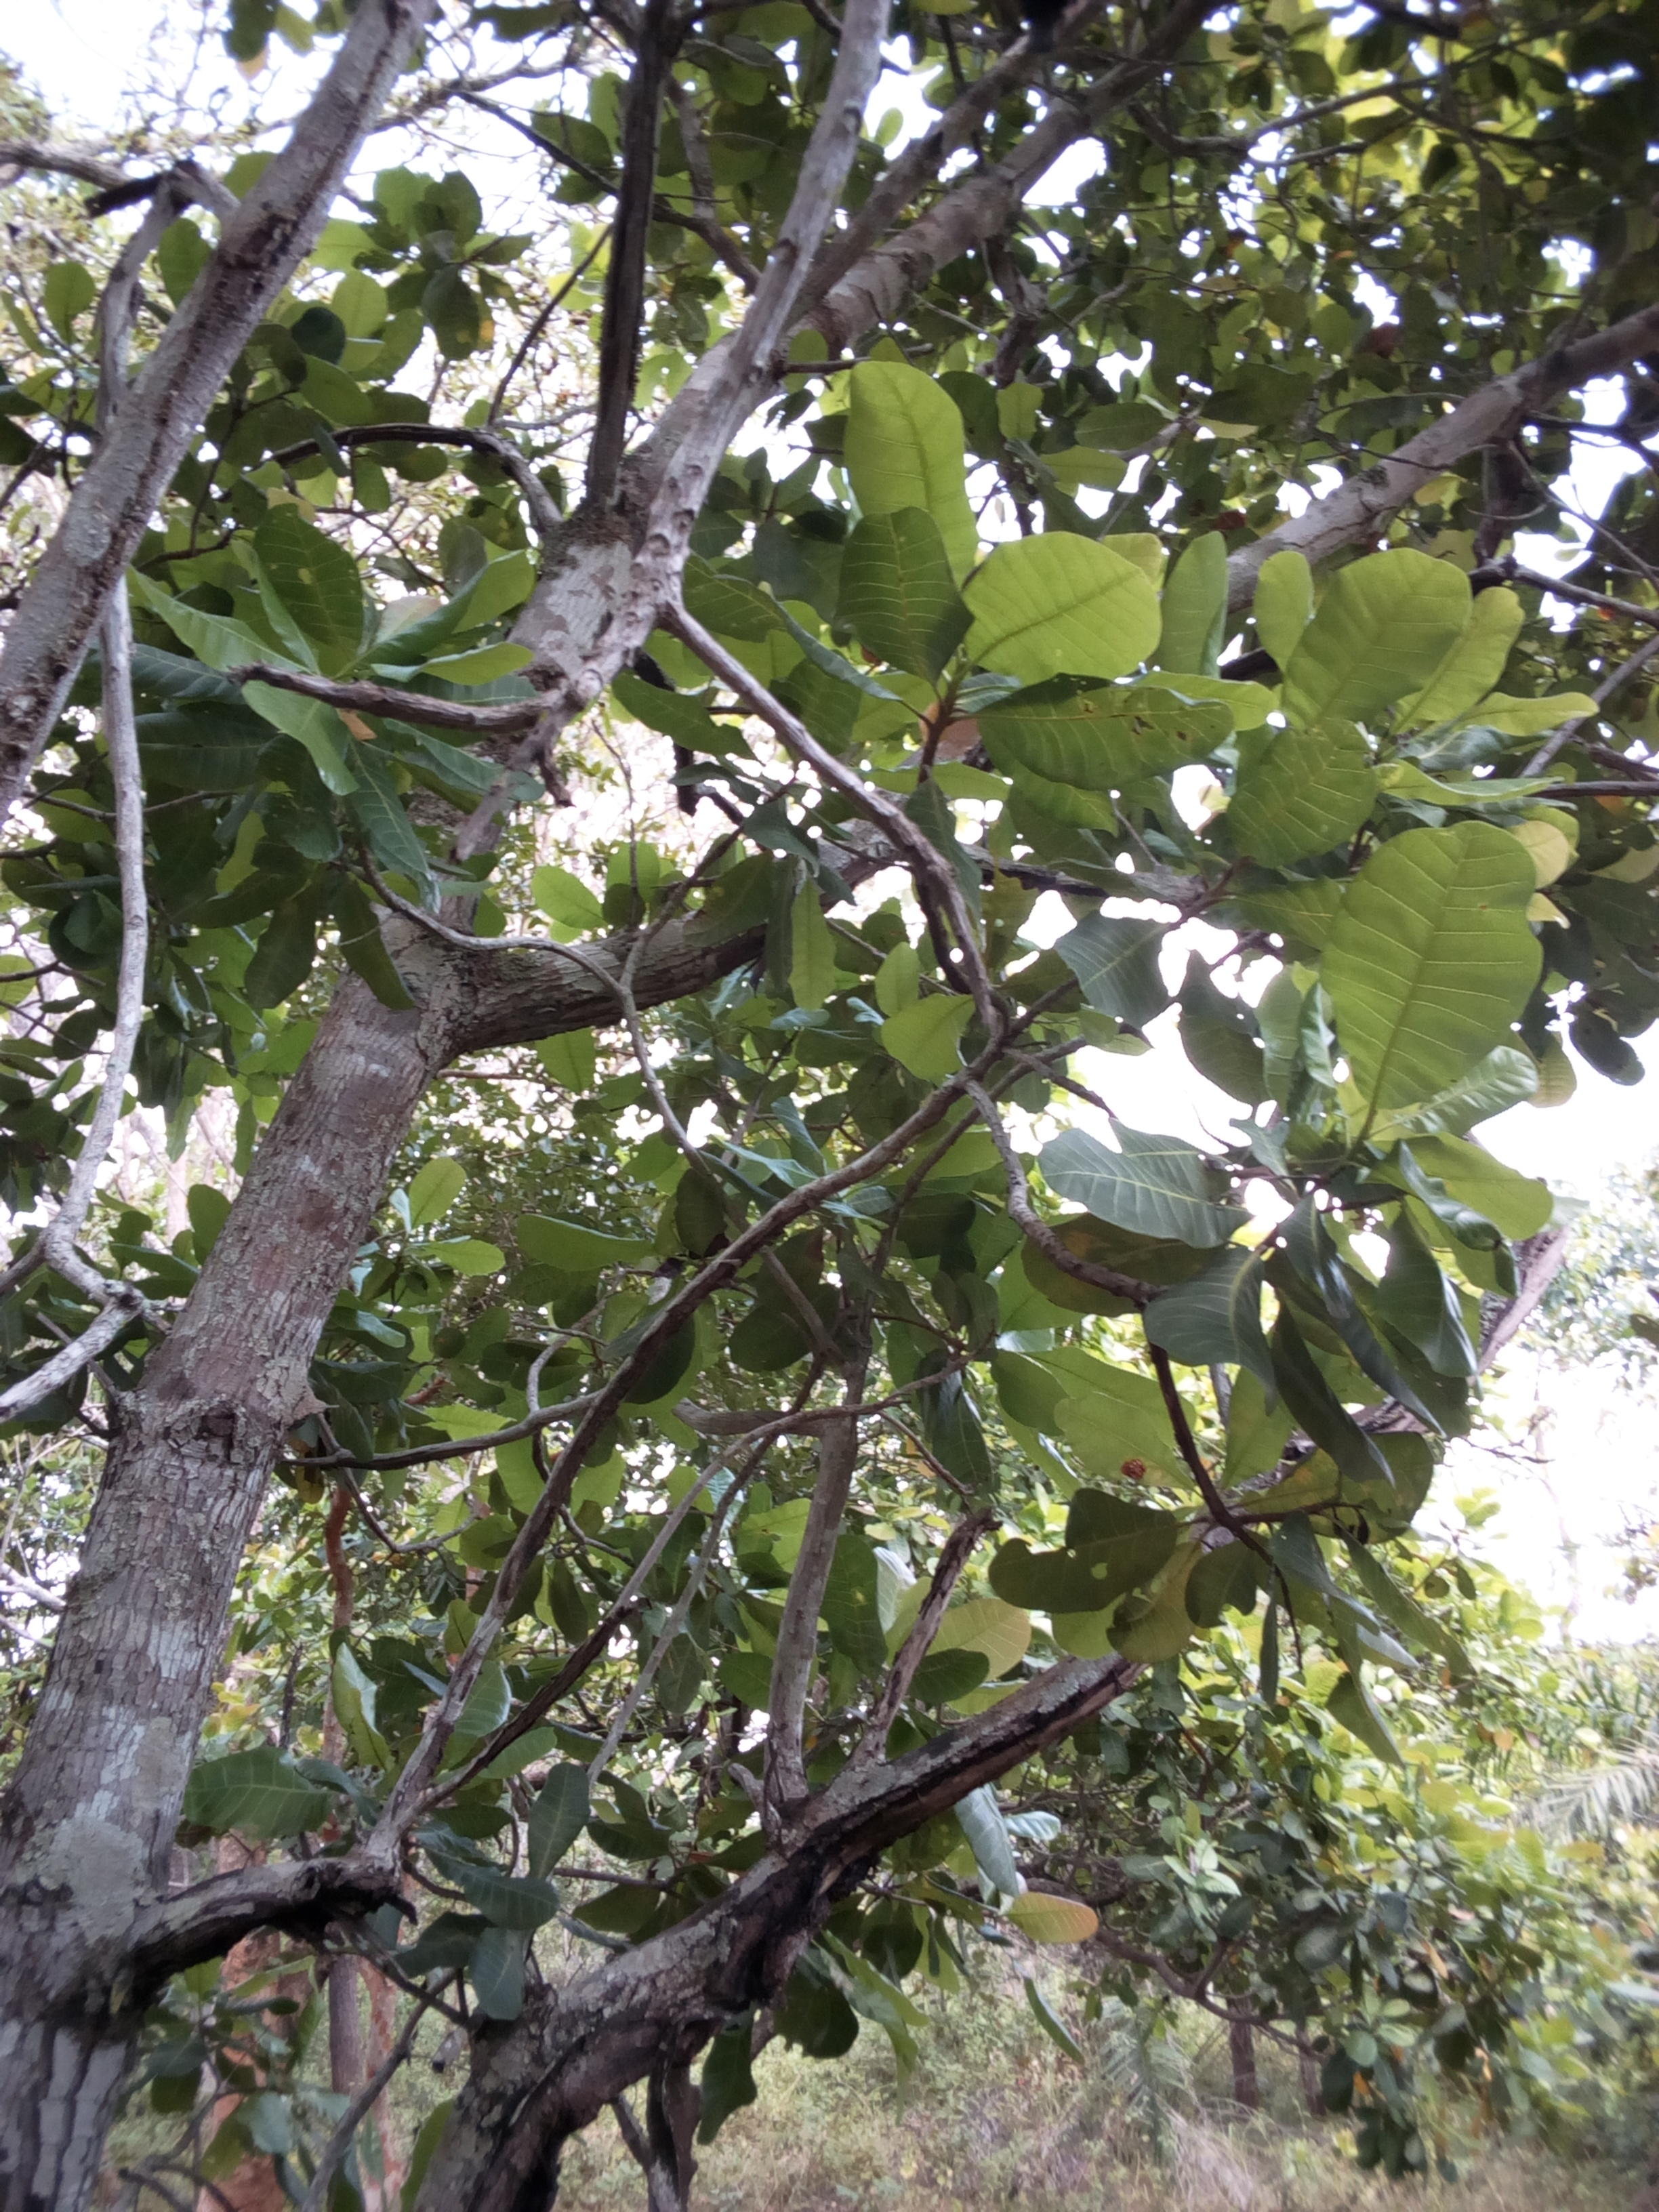Termites: (9, 266, 247, 766)
